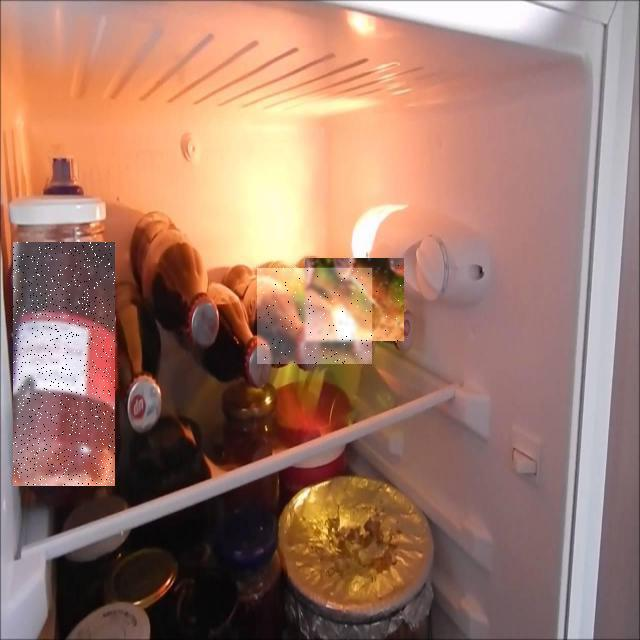tomato: (0, 243, 70, 640)
